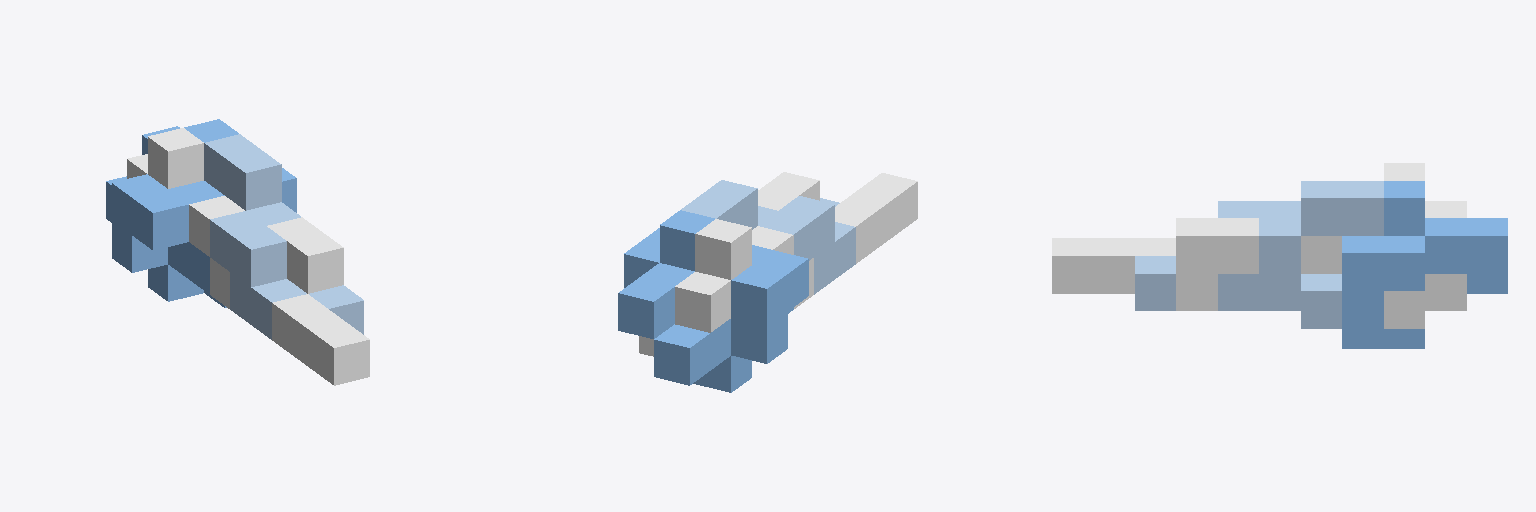
3 views of the same model, side by side, from view 1: azimuth 30°, elevation 25°; view 2: azimuth 150°, elevation 25°; view 3: azimuth 270°, elevation 25° (orthographic).
Size of the model in its own units: 4 by 4 by 11.
Materials: 1 (1 with a texture image).